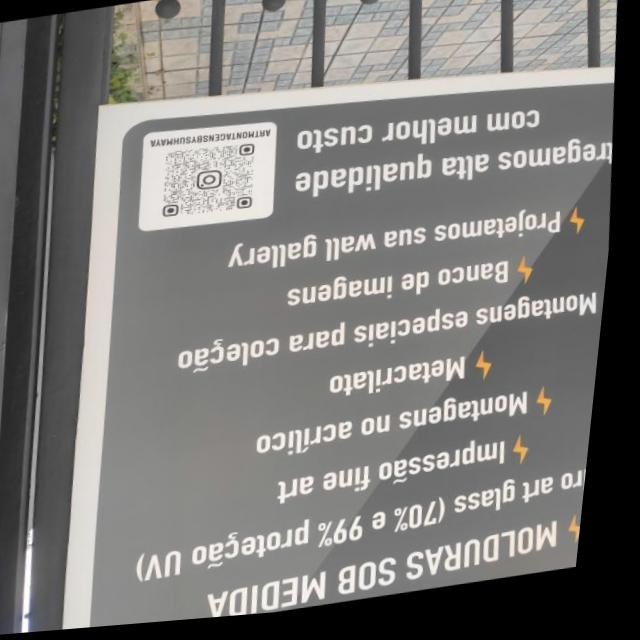qrcode: (162, 143, 262, 223)
